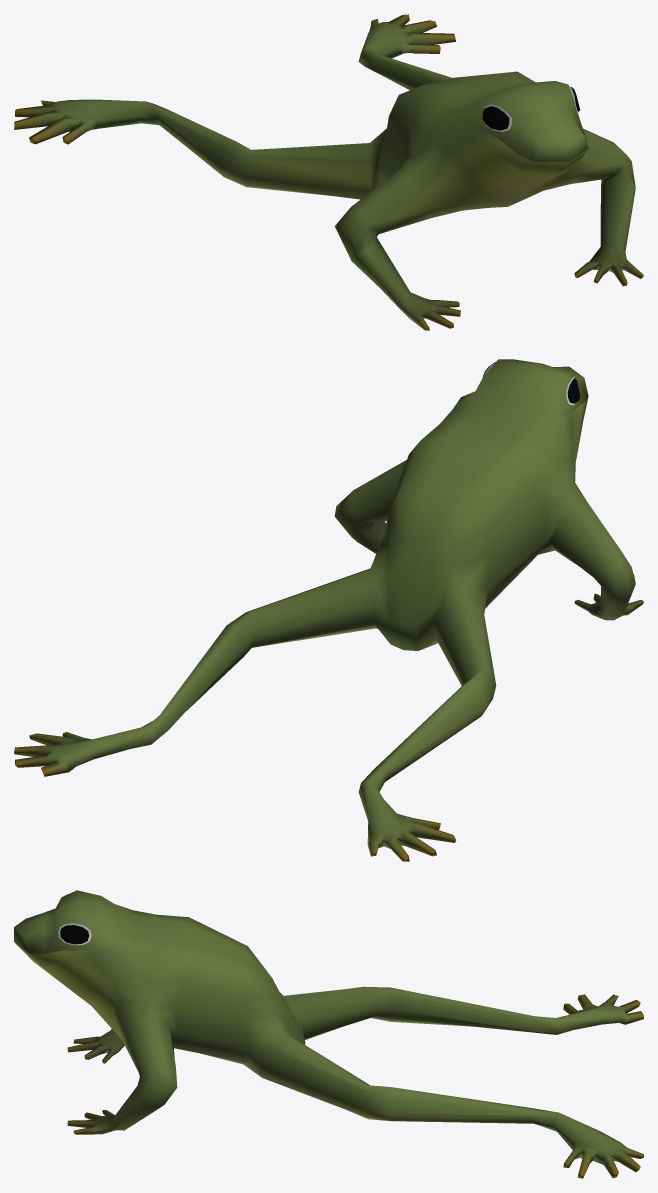
3 renders of one model, top to bottom at view 1: azimuth 30°, elevation 25°; view 2: azimuth 150°, elevation 25°; view 3: azimuth 270°, elevation 25°, orthographic. The views are drawn at different scales.
Visible parts, largest first — view 1: GreenFrog; view 2: GreenFrog; view 3: GreenFrog.
Part boxes in pixels (left/top/right/bottom): GreenFrog: left=14, top=14, right=643, bottom=330; GreenFrog: left=14, top=359, right=643, bottom=861; GreenFrog: left=14, top=890, right=643, bottom=1178.
Bounding box in the file's own units: 0.3393 × 0.1633 × 0.5.
